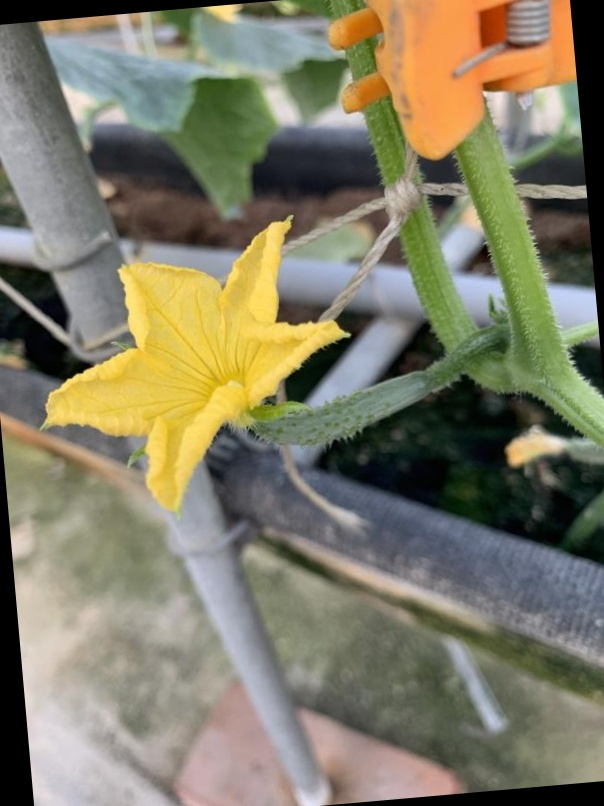flowering: (51, 207, 456, 495)
